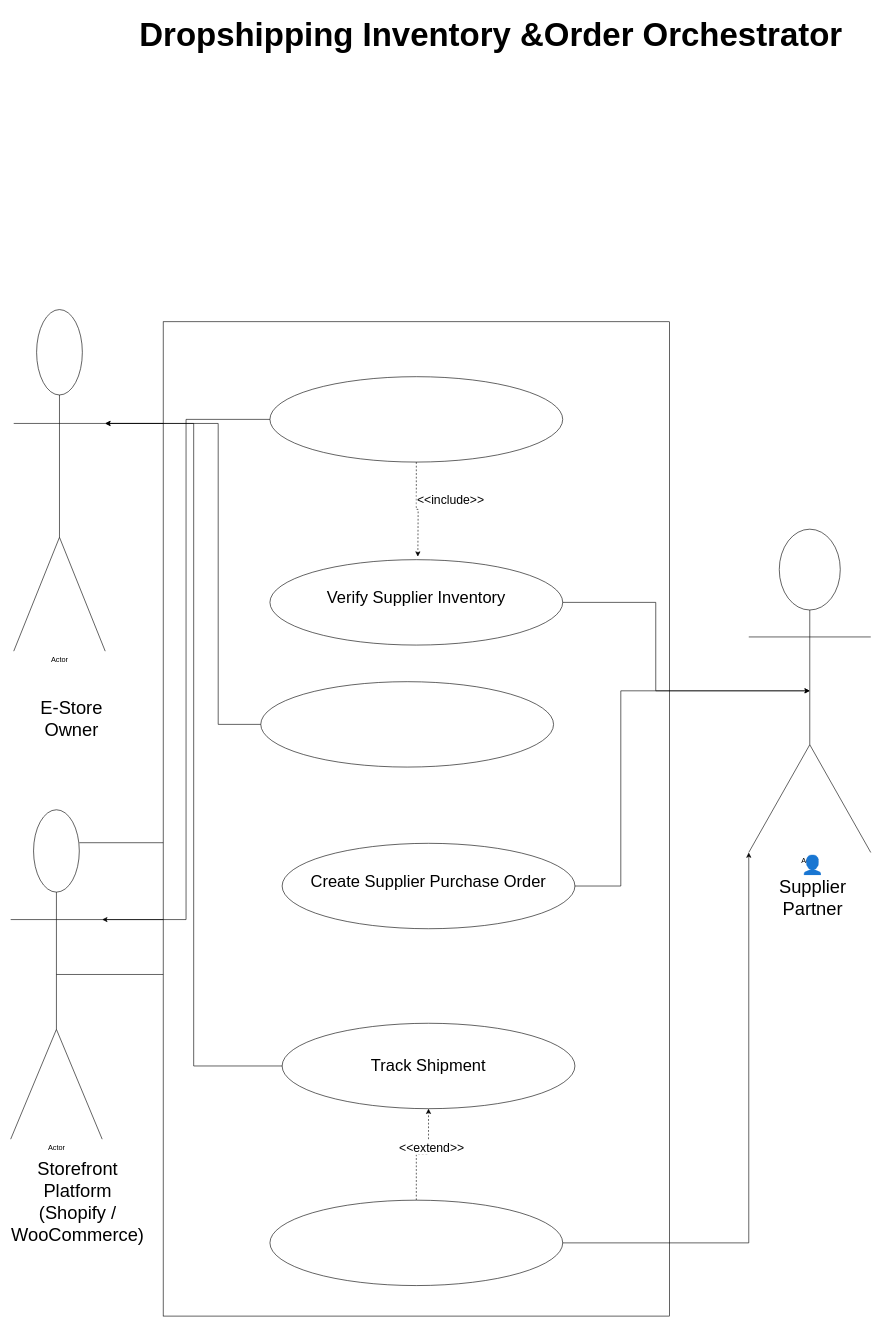
The diagram is 881 pixels wide and 1327 high, and some of its shapes have lost their labels. Here are the shapes that lost their labels. From the top down, the box of each, then its label:
(269, 376, 563, 462): Receive Order Webhook
(260, 681, 554, 767): Split Multi-Vendor Order
(269, 1200, 563, 1286): Update Tracking Number
